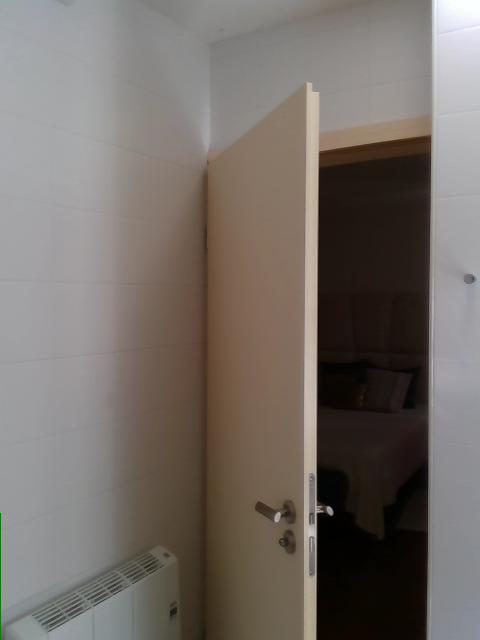semi_door: (203, 77, 432, 639)
